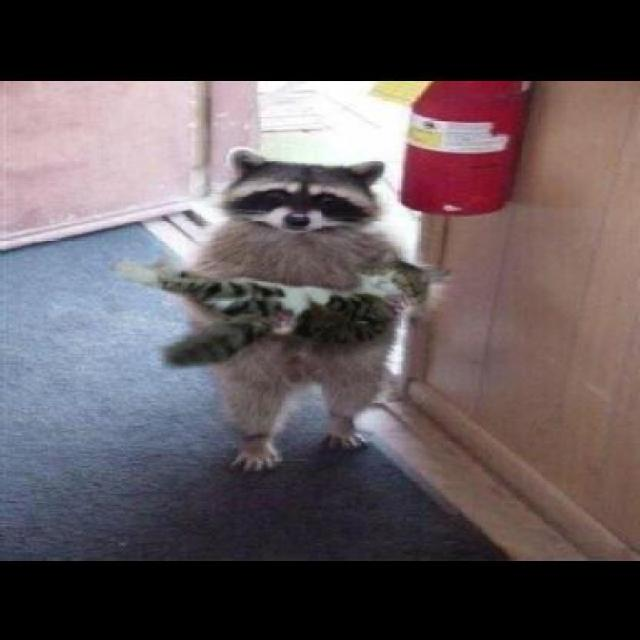raccon: (161, 145, 399, 474)
